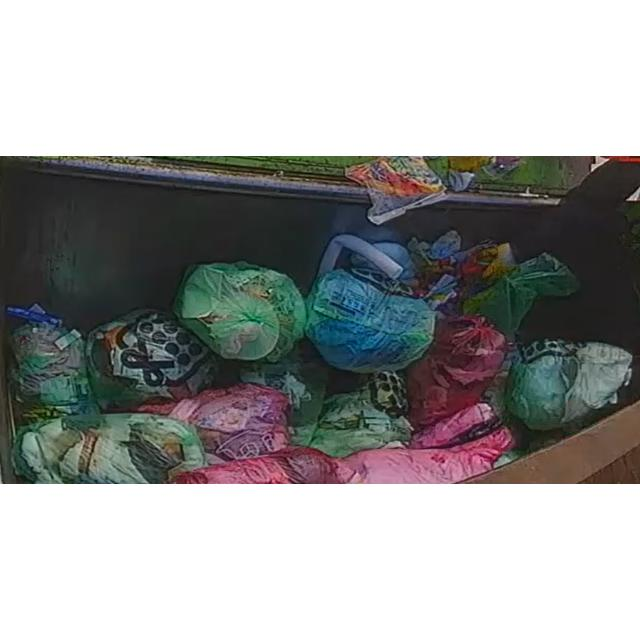general_trashbag: (308, 267, 435, 374), (86, 308, 215, 411), (14, 415, 206, 484), (174, 262, 306, 362), (508, 341, 631, 430), (11, 324, 98, 425), (310, 372, 412, 457)
other_trashbag: (140, 384, 291, 461), (409, 316, 508, 430), (338, 427, 514, 485), (176, 448, 345, 485)
